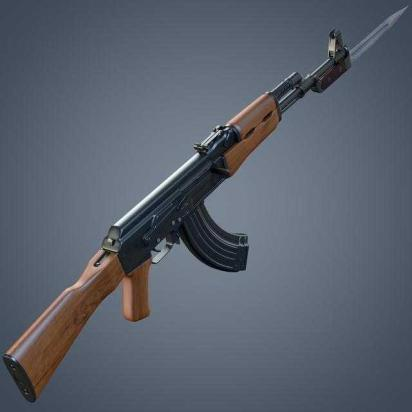Gun: (21, 35, 356, 391)
